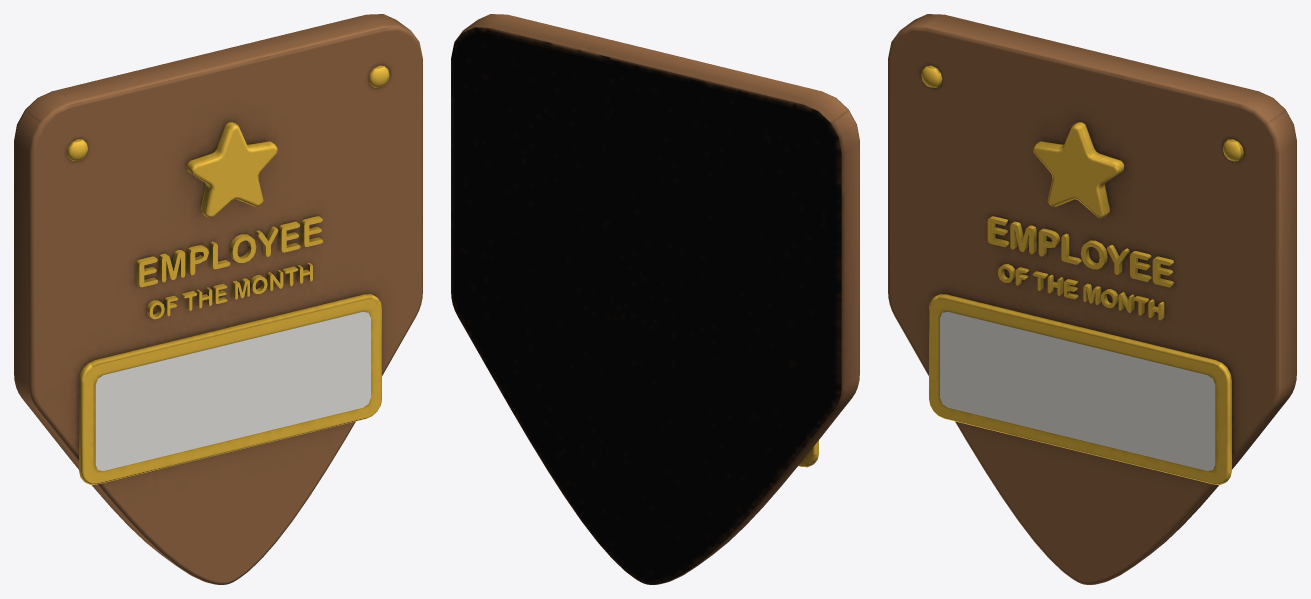
File: award_plaque.glb
3 views of the same model, side by side, from view 1: azimuth 30°, elevation 25°; view 2: azimuth 150°, elevation 25°; view 3: azimuth 330°, elevation 25° (orthographic).
Visible parts, largest first — view 1: award_plaque; view 2: award_plaque; view 3: award_plaque.
Boxes of the visible parts, x1=… form: award_plaque: x1=14, y1=14, x2=422, y2=584; award_plaque: x1=451, y1=14, x2=859, y2=584; award_plaque: x1=888, y1=14, x2=1296, y2=584.
Size of the model in its own units: 0.3 by 0.3796 by 0.036.
3 materials, 2 textured.
